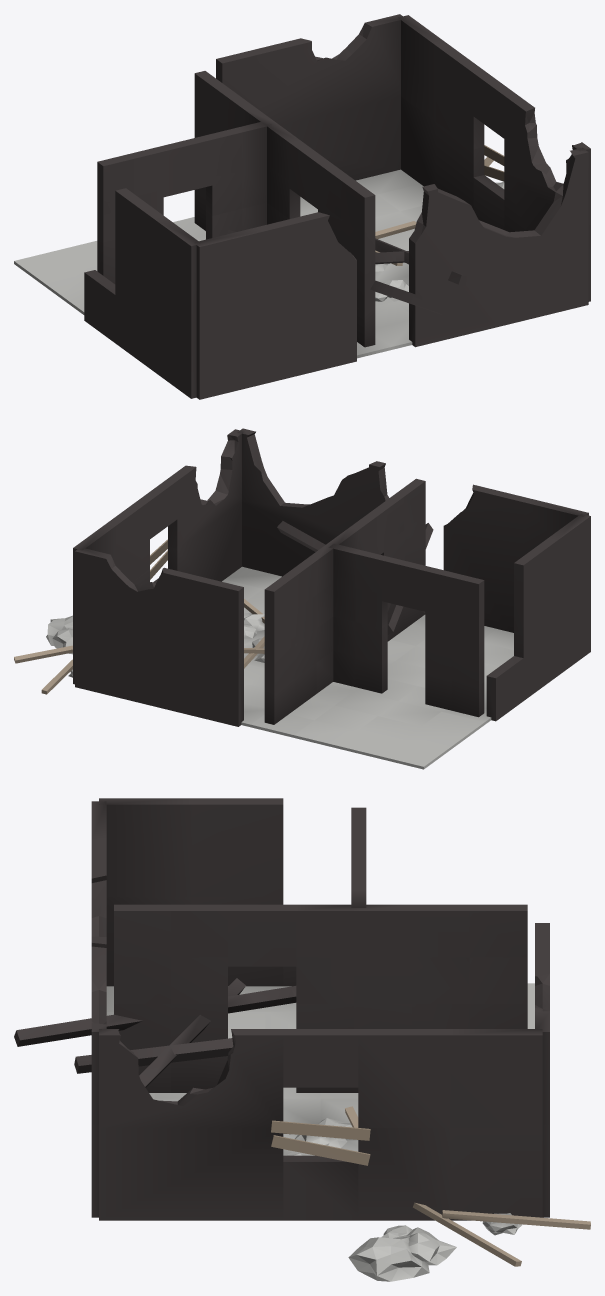
File: casa_r6.glb
The picture shows the model from 3 angles, top to bottom: view 1: azimuth 30°, elevation 25°; view 2: azimuth 150°, elevation 25°; view 3: azimuth 270°, elevation 25°; orthographic projection. The views are drawn at different scales.
Visible parts, largest first — view 1: ext, dentro, detalhe, longe; view 2: ext, dentro, detalhe, longe; view 3: ext, dentro, detalhe, longe.
Part boxes in pixels (x1,y1,x2,y2): ext: (84,14,590,399); dentro: (14,71,423,358); detalhe: (375,157,504,301); longe: (227,230,446,315); ext: (73,428,590,726); dentro: (222,478,513,769); detalhe: (14,599,264,694); longe: (277,521,433,634); ext: (91,798,549,1220); dentro: (106,807,534,1155); detalhe: (74,1038,590,1281); longe: (14,978,296,1087).
Size of what is drawn, in the model's own units: 10.14 by 3.27 by 8.46.
